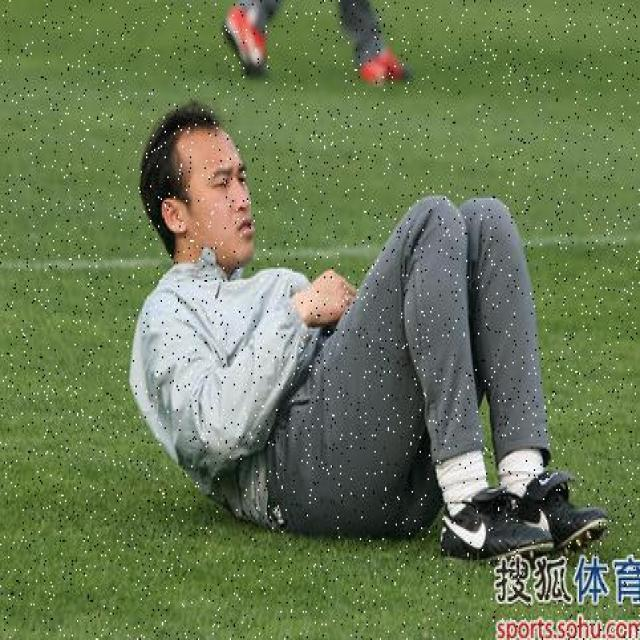fall: (147, 110, 591, 554)
